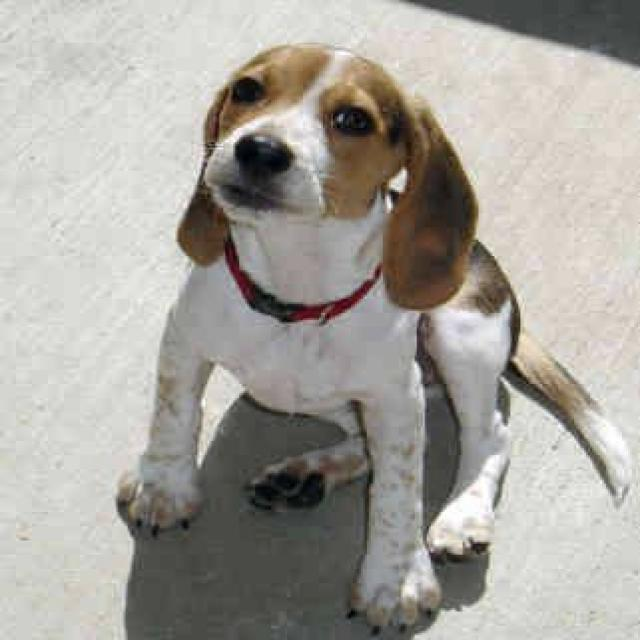beagle: (104, 36, 638, 632)
